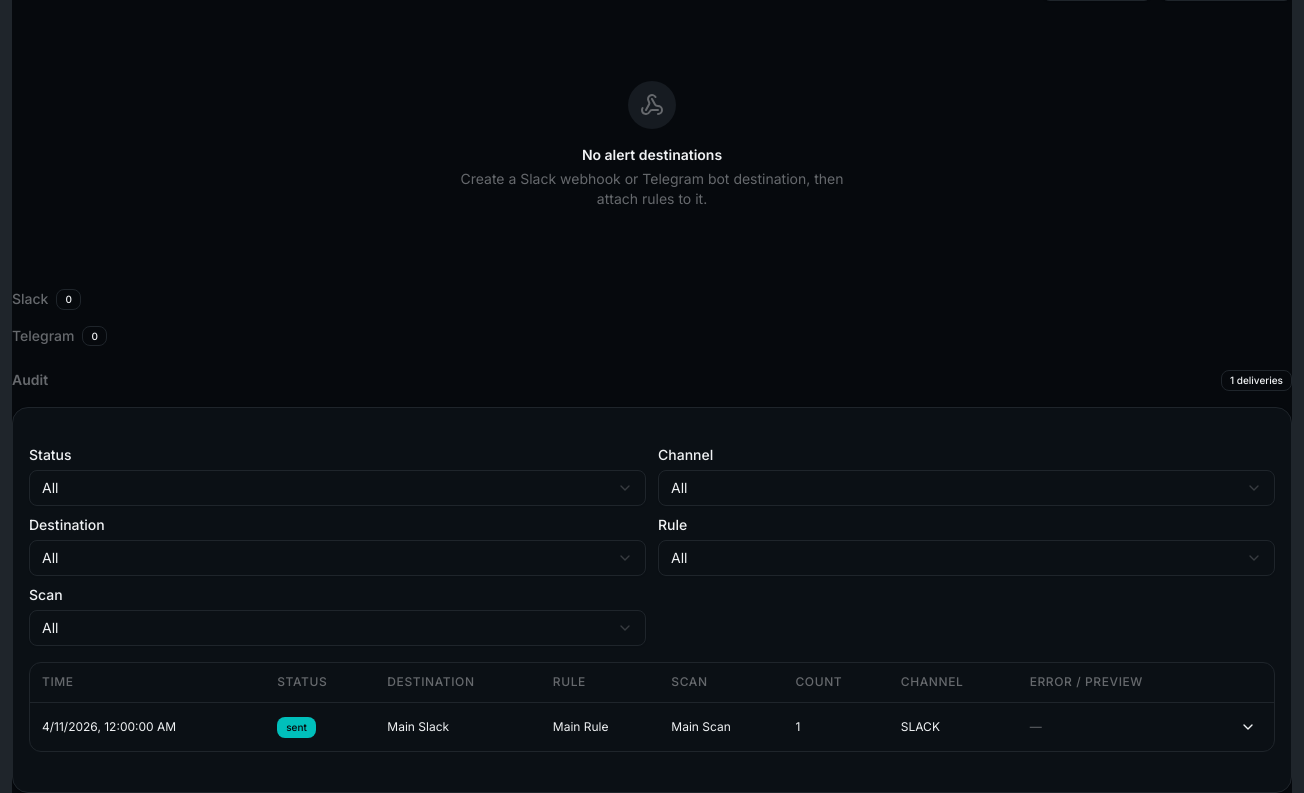
Test: ProjectSettingsPage › expands alert delivery audit items
(page scrolled)
Click the 3rd button: (1248, 727) left=1234, top=713, right=1262, bottom=741
(page scrolled)
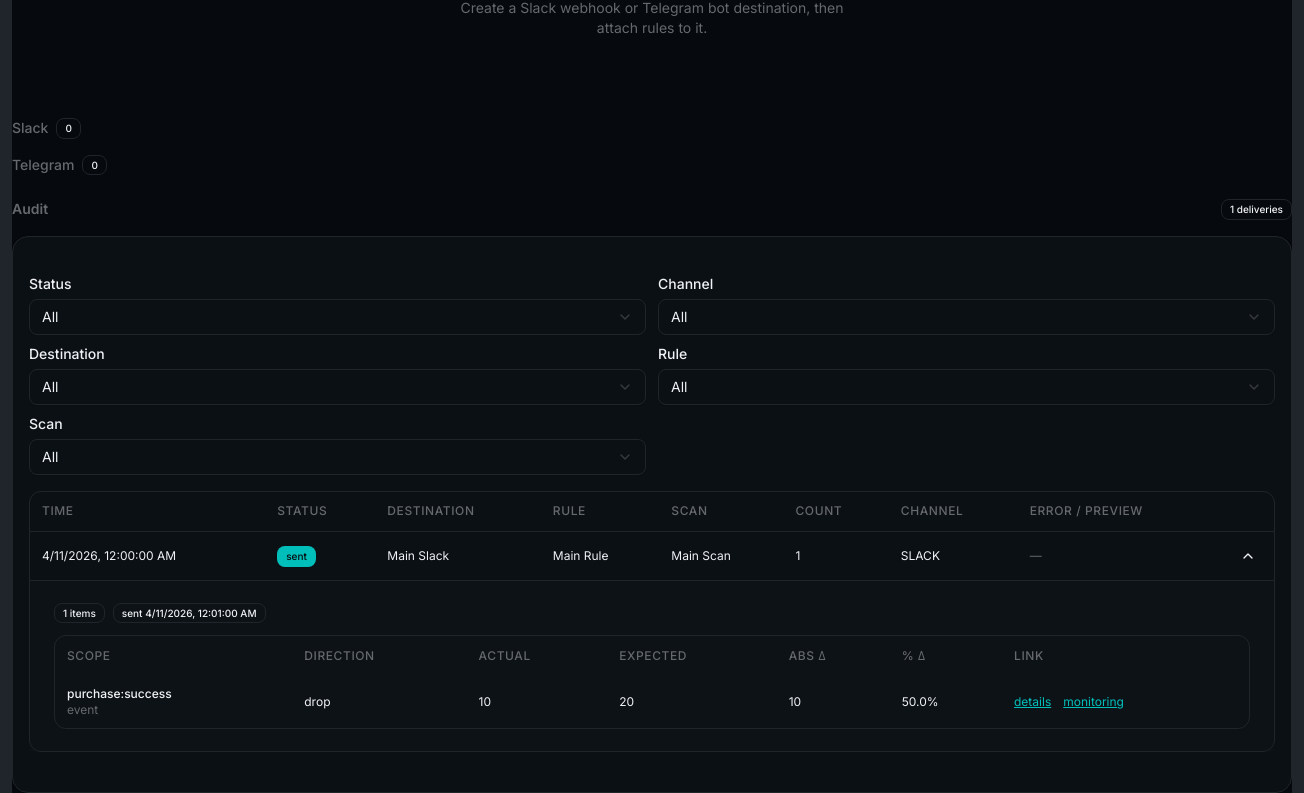
Expected: the text "purchase:success" is shown, left=67, top=686, right=172, bottom=701
Expected: the link "details" is shown, left=1014, top=694, right=1051, bottom=710
Expected: the text "50.0%" is shown, left=890, top=676, right=1002, bottom=728
